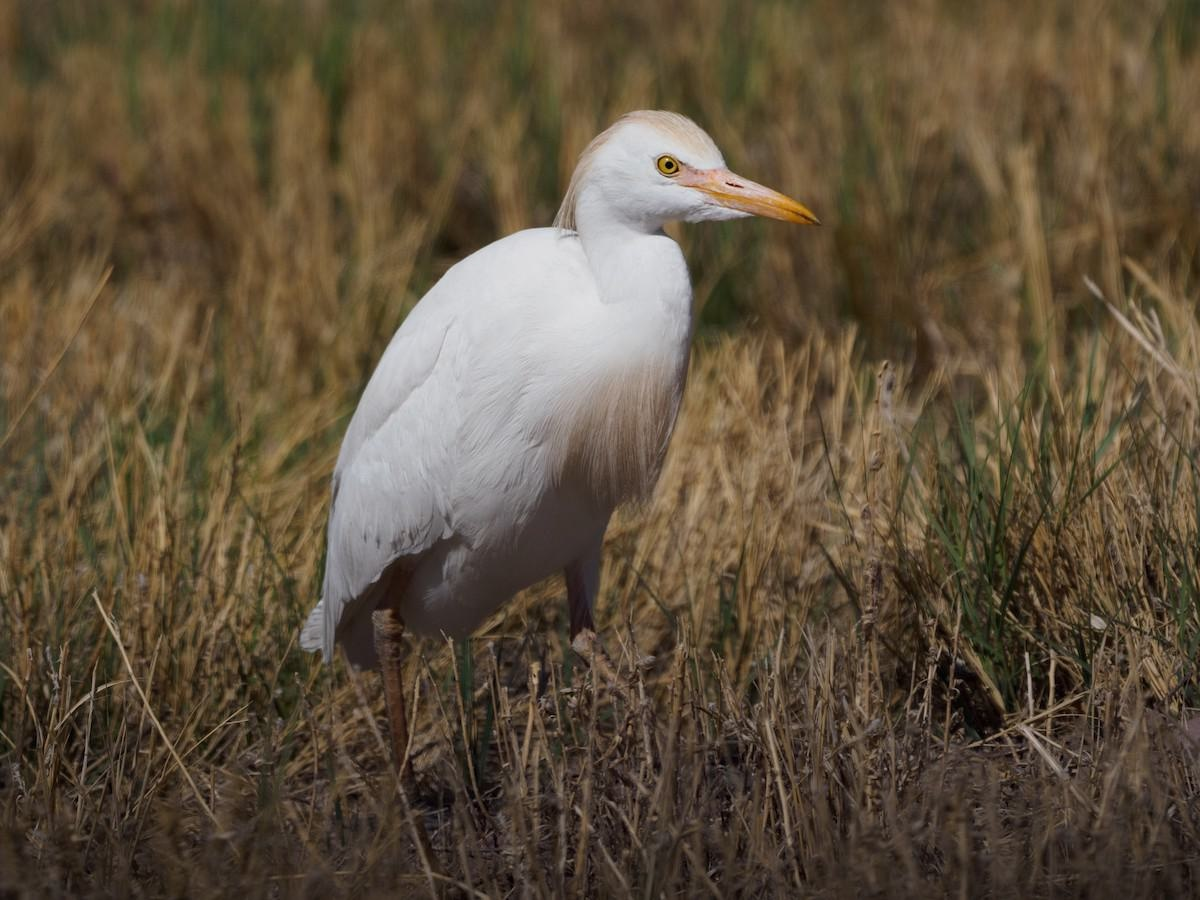egret: (274, 96, 848, 724)
